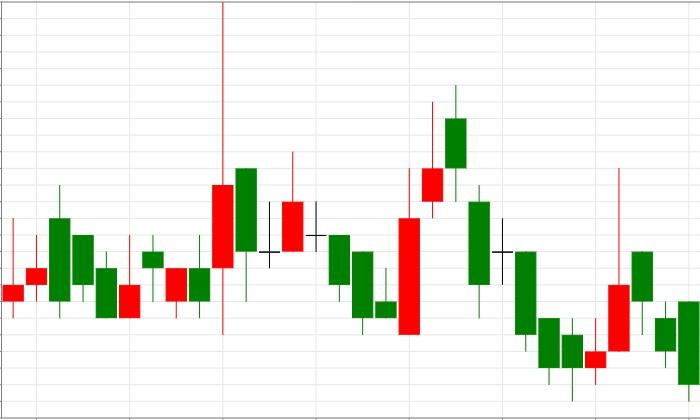bullish_engulfing_rise: (281, 152, 421, 335)
